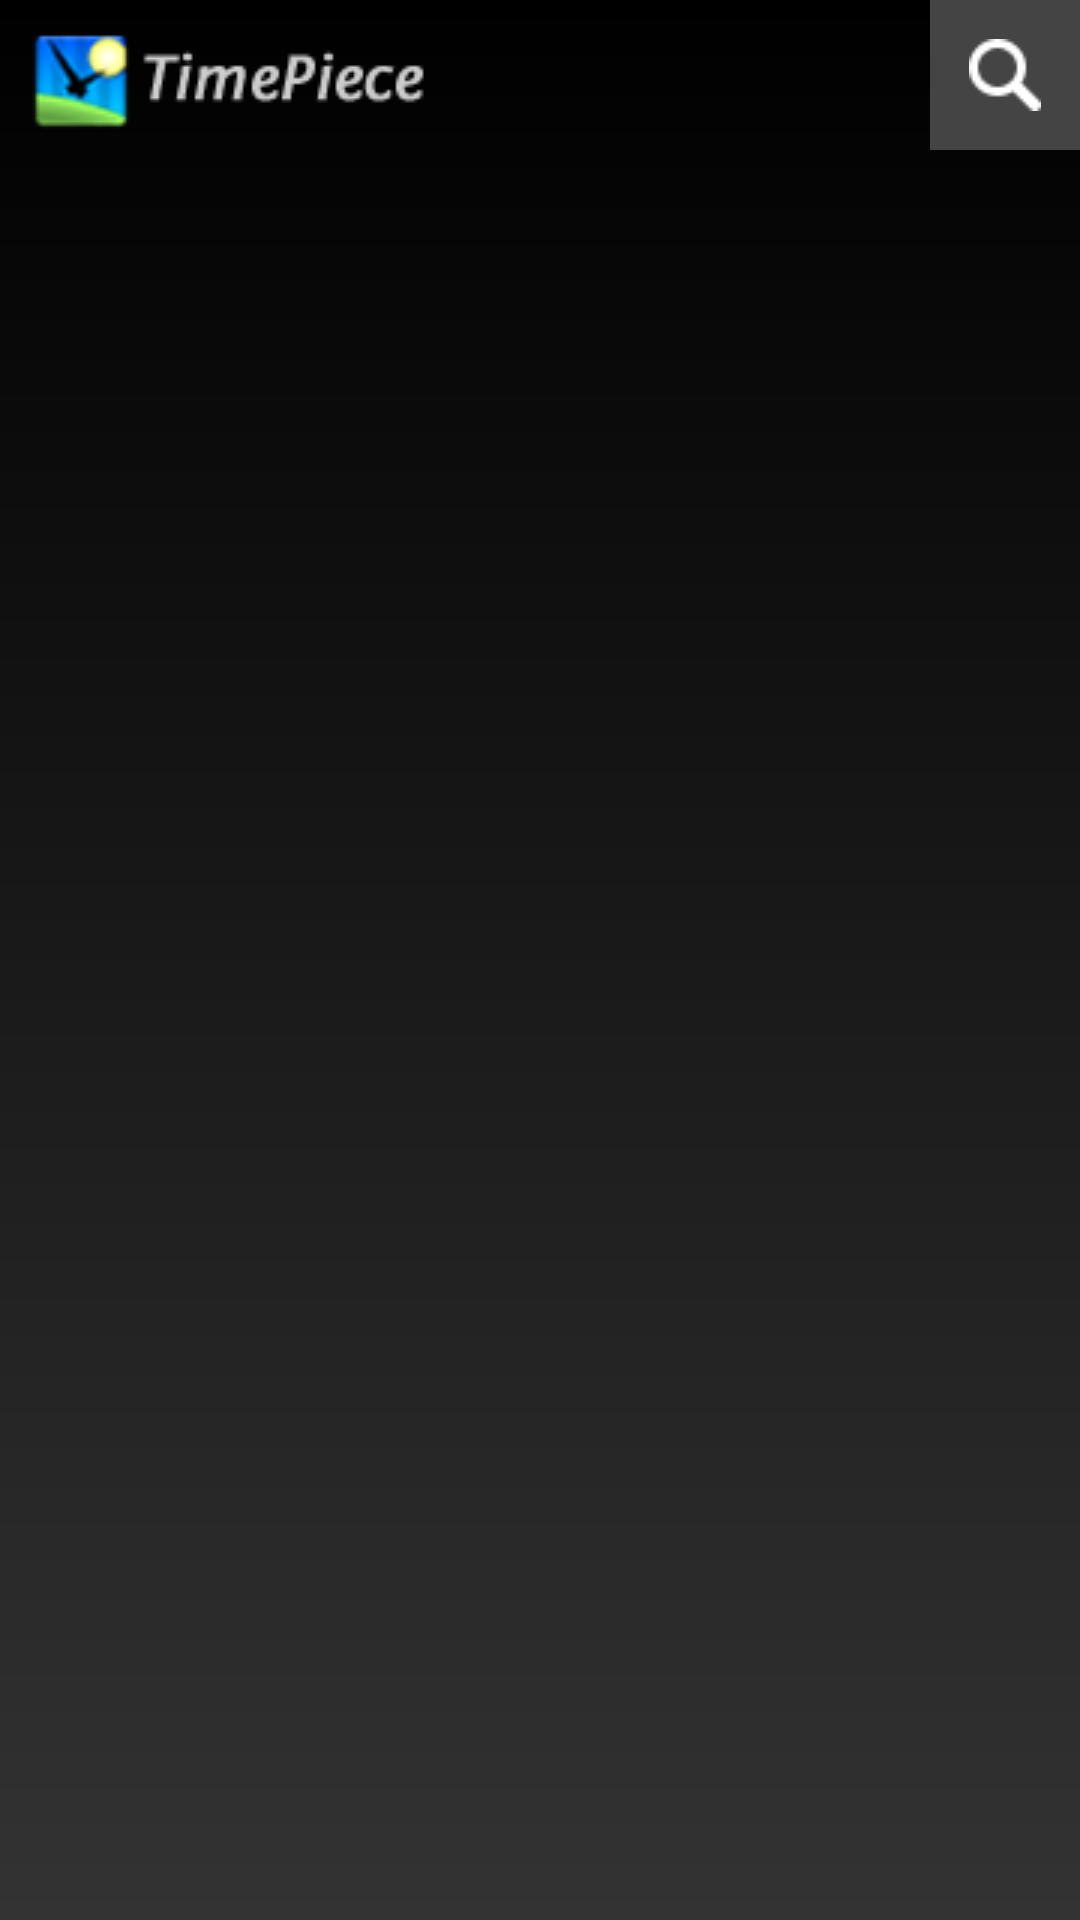

Screen size 1080 × 1920. Icon name, then its box in pixels as (x1, y1, x2, y2):
search: (930, 0, 1080, 150)
